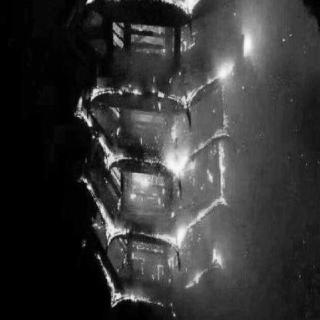Fire: (80, 4, 252, 312)
